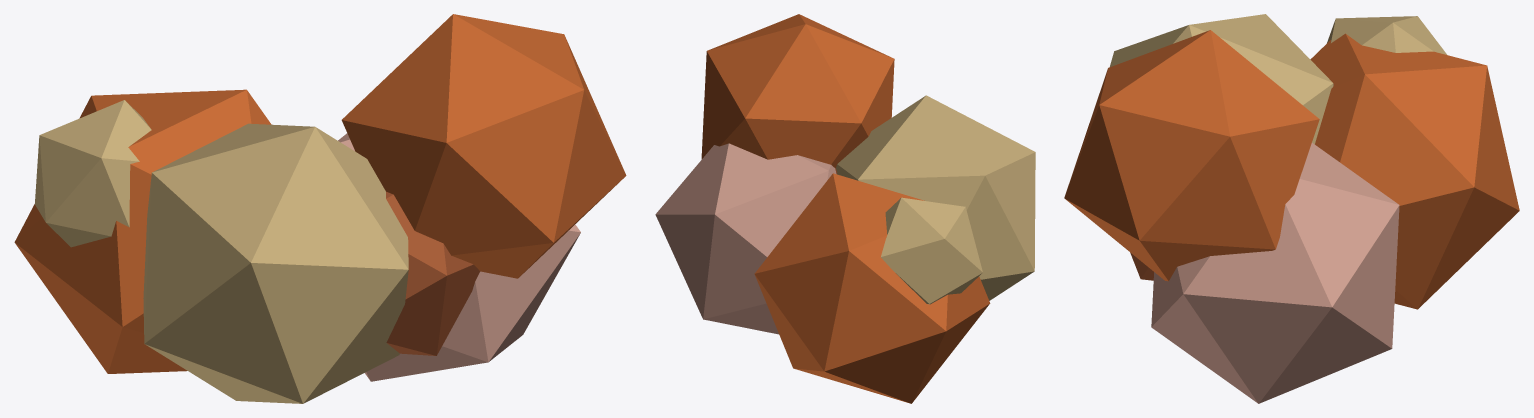
The model's file is rope_anchor.glb.
The picture shows the model from 3 angles, left to right: view 1: azimuth 30°, elevation 25°; view 2: azimuth 150°, elevation 25°; view 3: azimuth 270°, elevation 25°; orthographic projection. The views are drawn at different scales.
Visible parts, largest first — view 1: cluster_1, cluster_4, cluster_0, cluster_5, cluster_2, cluster_3; view 2: cluster_0, cluster_4, cluster_1, cluster_2, cluster_5; view 3: cluster_4, cluster_2, cluster_0, cluster_1, cluster_5.
Part boxes in pixels (<box>): cluster_1: <box>143,123,408,403</box>; cluster_4: <box>341,14,626,278</box>; cluster_0: <box>14,89,271,373</box>; cluster_5: <box>35,100,151,247</box>; cluster_2: <box>338,133,580,381</box>; cluster_3: <box>386,191,480,355</box>; cluster_0: <box>754,173,990,403</box>; cluster_4: <box>701,14,894,168</box>; cluster_1: <box>836,95,1035,300</box>; cluster_2: <box>655,143,836,334</box>; cluster_5: <box>881,197,982,304</box>; cluster_4: <box>1064,30,1319,281</box>; cluster_2: <box>1151,143,1399,403</box>; cluster_0: <box>1310,33,1519,309</box>; cluster_1: <box>1110,14,1333,144</box>; cluster_5: <box>1327,16,1446,54</box>.
Size of what is drawn, in the model's own units: 2.16 by 1.74 by 2.05.
